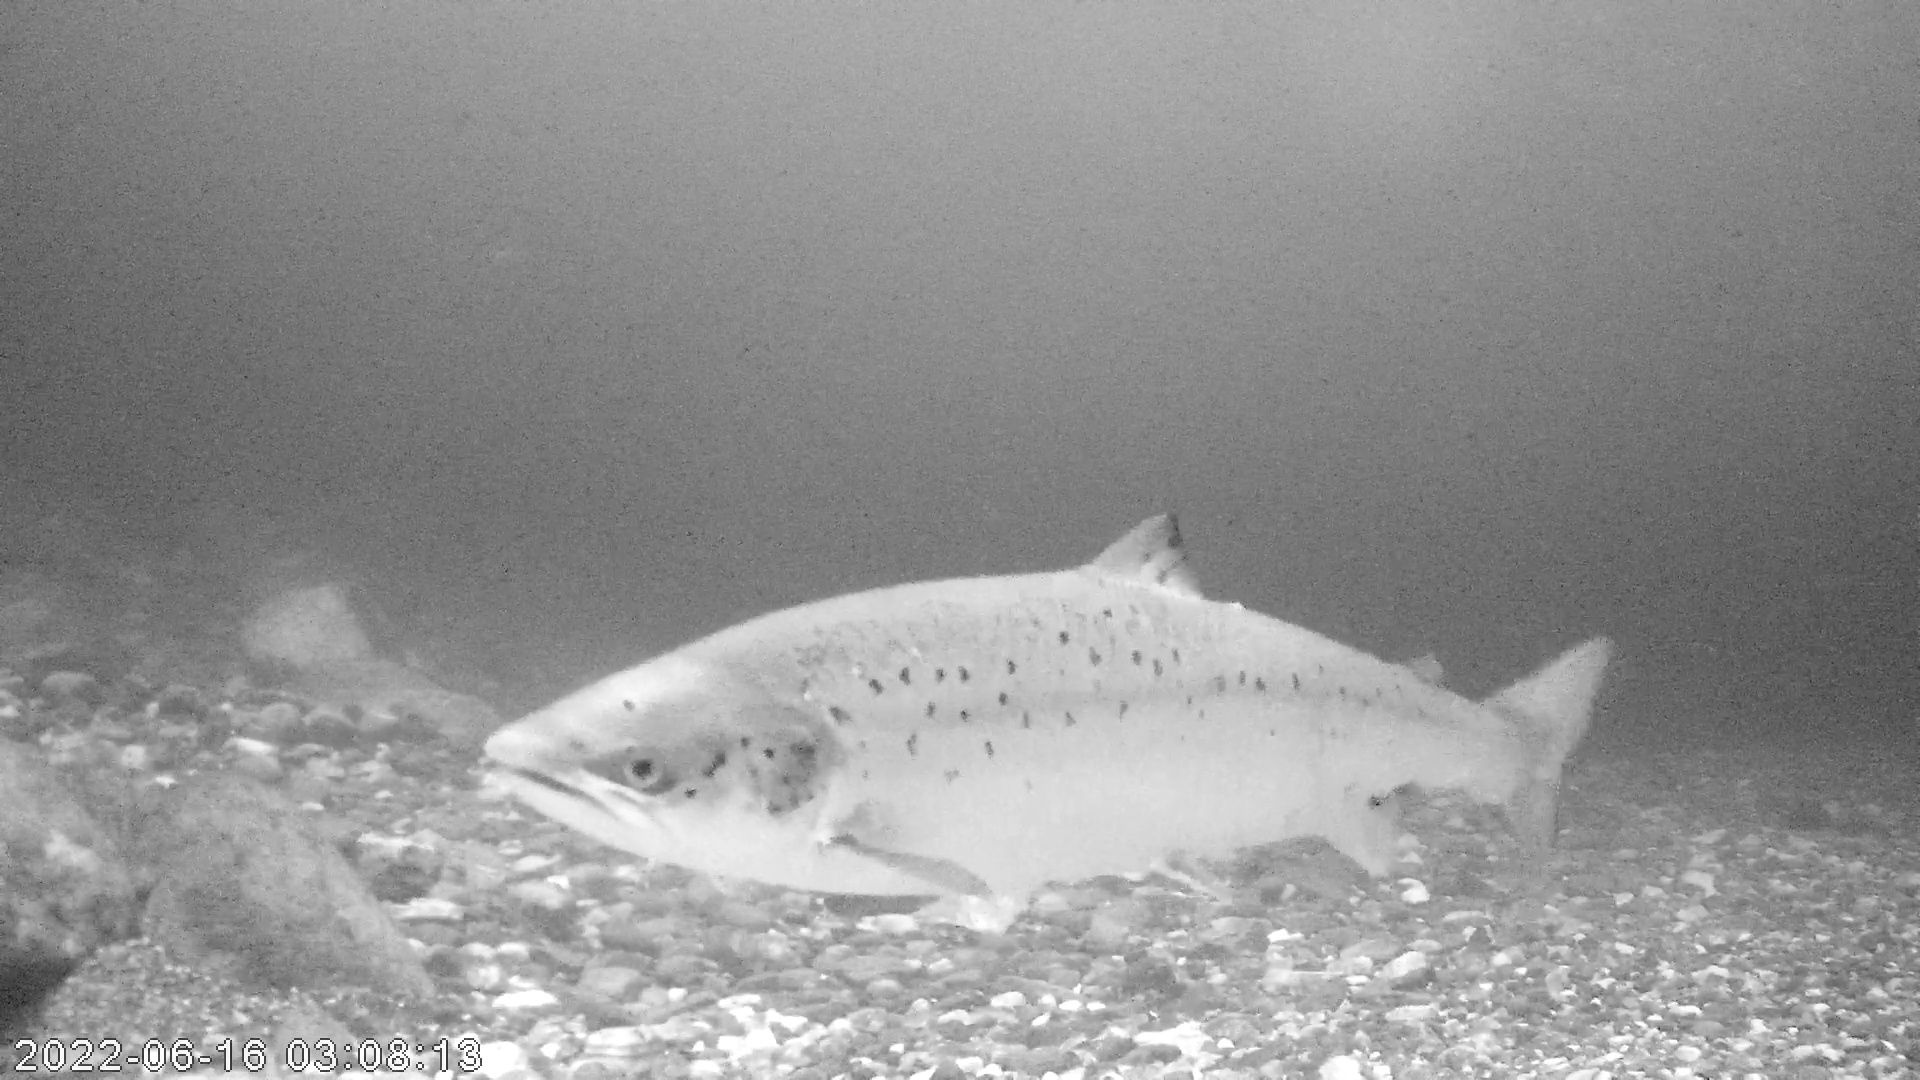salmon: (483, 508, 1619, 903)
